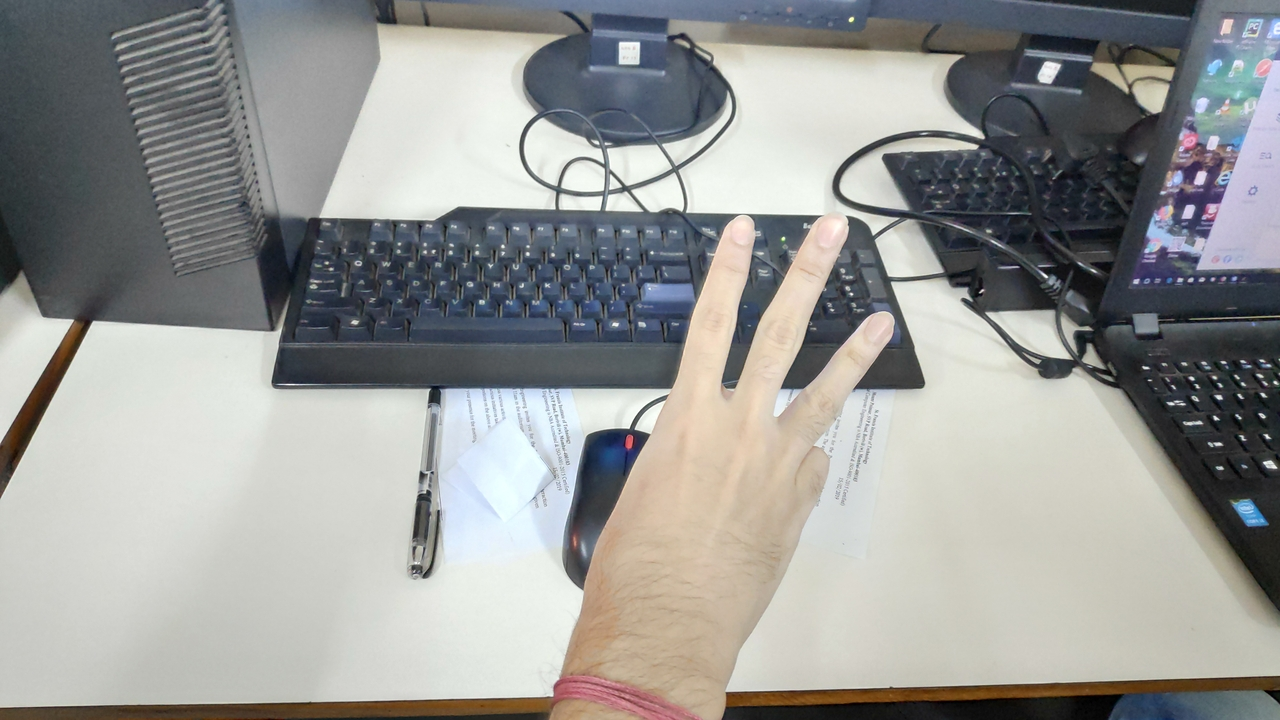fingertip: (798, 196, 864, 262), (838, 304, 904, 358), (714, 206, 772, 260), (412, 384, 452, 414)
